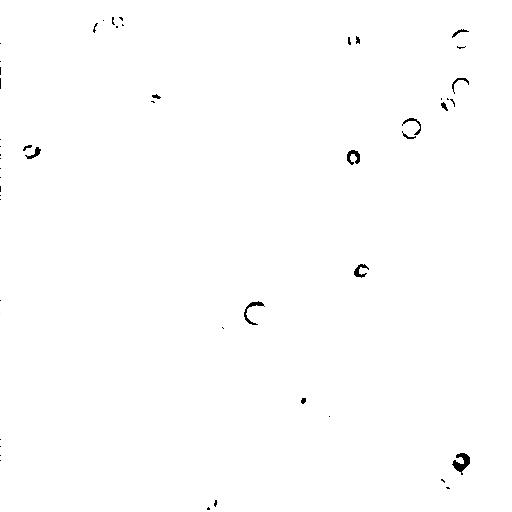micro-algae: (275, 385, 317, 419), (367, 179, 405, 213), (47, 0, 93, 27), (437, 463, 463, 491), (244, 300, 271, 326), (347, 257, 374, 282), (448, 450, 473, 475), (398, 116, 423, 140), (18, 141, 44, 162), (451, 74, 472, 97), (451, 27, 473, 48), (91, 18, 110, 39), (439, 95, 458, 113), (204, 494, 223, 511), (345, 148, 360, 165), (111, 12, 125, 29), (347, 33, 363, 47), (0, 67, 9, 85)
